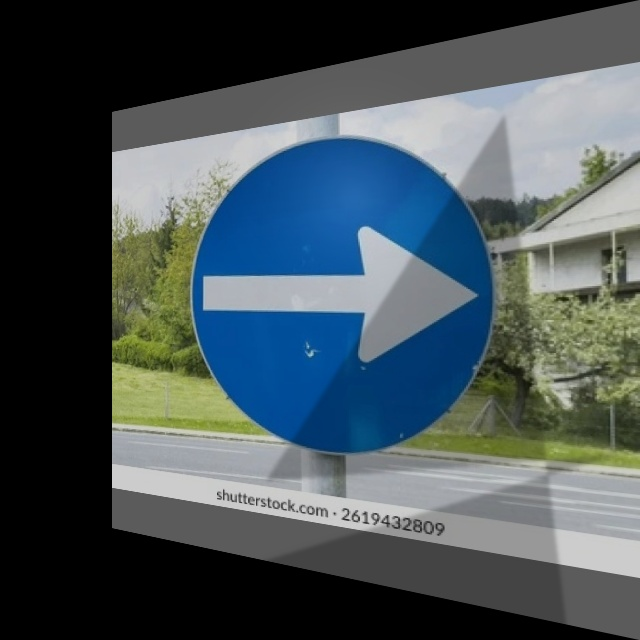Compulsory_Turn_Right: (196, 108, 497, 468)
